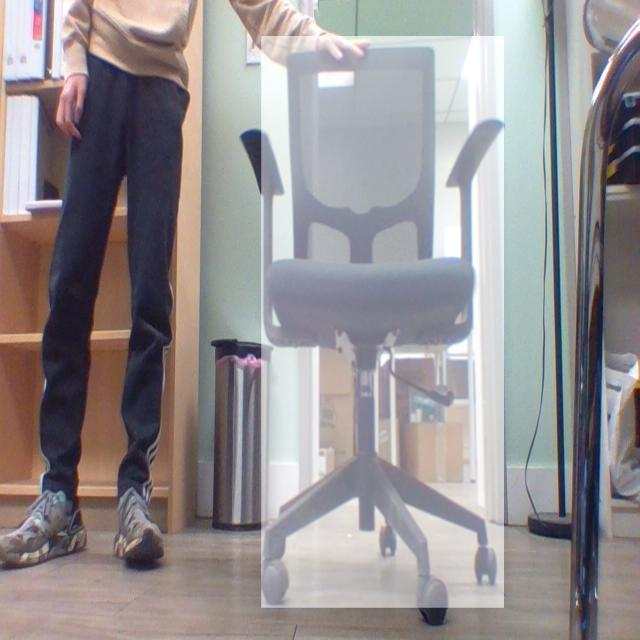chair: (257, 36, 501, 640)
